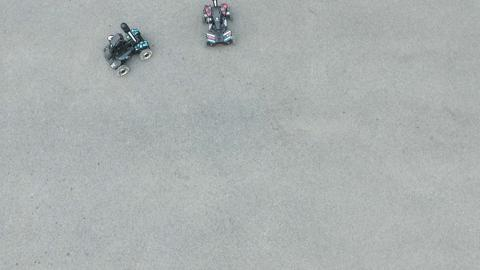chariot: (102, 21, 151, 77), (200, 1, 236, 48)
